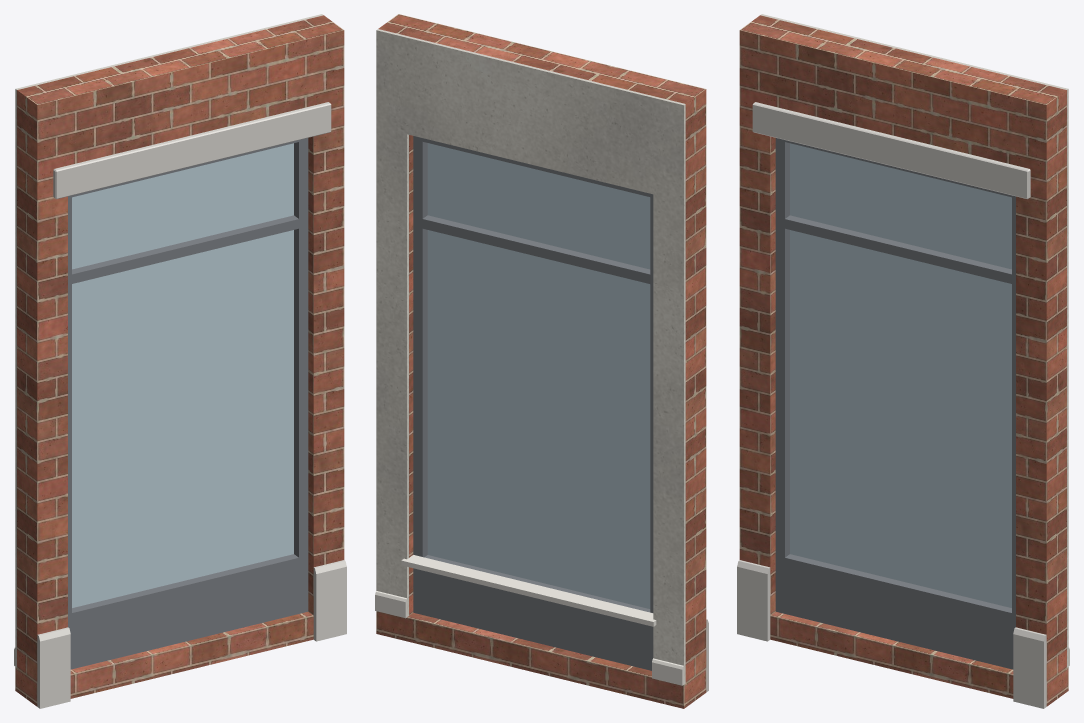
File: pg_glass.glb
The picture shows the model from 3 angles, left to right: view 1: azimuth 30°, elevation 25°; view 2: azimuth 150°, elevation 25°; view 3: azimuth 330°, elevation 25°; orthographic projection.
Parts seen in each view (by area): view 1: pg_glass_glass, pg_glass_brick, pg_glass_frame, pg_glass_cill, pg_glass_plaster; view 2: pg_glass_glass, pg_glass_plaster, pg_glass_brick, pg_glass_frame, pg_glass_trim; view 3: pg_glass_glass, pg_glass_brick, pg_glass_frame, pg_glass_cill, pg_glass_plaster.
Boxes of the visible parts, x1,y1,x2,y2 form: pg_glass_glass: [72, 143, 293, 607]; pg_glass_brick: [15, 15, 344, 706]; pg_glass_frame: [68, 138, 308, 669]; pg_glass_cill: [37, 102, 346, 708]; pg_glass_plaster: [15, 14, 323, 667]; pg_glass_glass: [427, 143, 650, 608]; pg_glass_plaster: [376, 29, 685, 684]; pg_glass_brick: [376, 14, 706, 708]; pg_glass_frame: [413, 136, 653, 670]; pg_glass_trim: [375, 555, 683, 685]; pg_glass_glass: [790, 143, 1011, 607]; pg_glass_brick: [739, 15, 1068, 706]; pg_glass_frame: [775, 138, 1015, 669]; pg_glass_cill: [737, 102, 1046, 708]; pg_glass_plaster: [760, 14, 1068, 667].
Bounding box in the file's own units: 2 × 3.75 × 0.315.
Materials: 6 (2 with a texture image).
